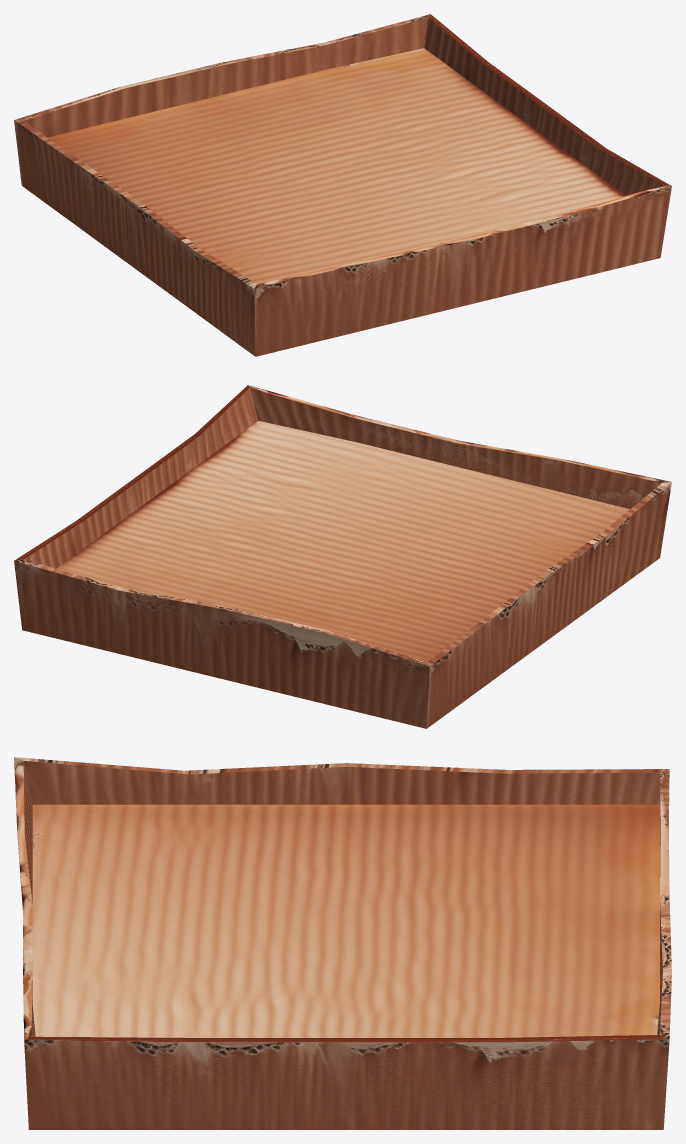
The model's file is cardBoards (1).fbx.
3 views of the same model, one above another, from view 1: azimuth 30°, elevation 25°; view 2: azimuth 150°, elevation 25°; view 3: azimuth 270°, elevation 25° (orthographic). The views are drawn at different scales.
Visible parts, largest first — view 1: cardBoard01, cardBoard02; view 2: cardBoard01, cardBoard02; view 3: cardBoard01, cardBoard02.
Part boxes in pixels (box(x1,y1,x2,y2)): cardBoard01: box(14, 14, 671, 354); cardBoard02: box(14, 21, 671, 356); cardBoard01: box(14, 385, 671, 728); cardBoard02: box(14, 409, 671, 728); cardBoard01: box(14, 757, 671, 1129); cardBoard02: box(14, 757, 669, 1129).
Size of the model in its own units: 271 by 45.6 by 271.
Materials: 1 (1 with a texture image).
